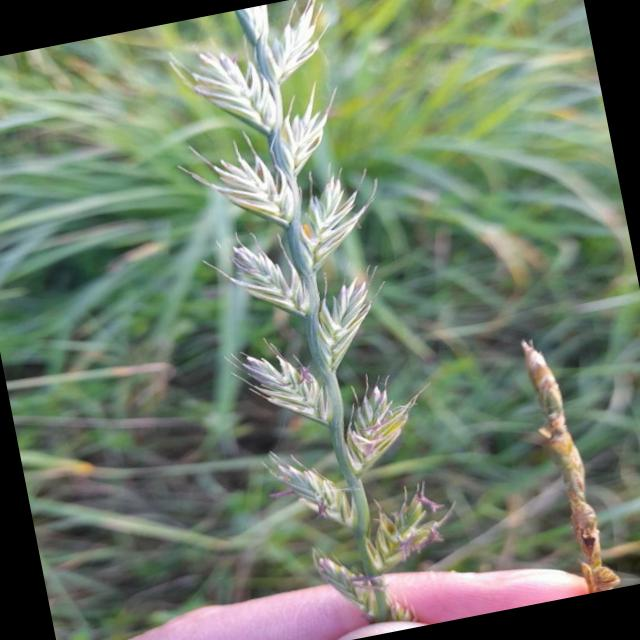Lolium: (146, 0, 475, 640), (509, 327, 624, 597)
